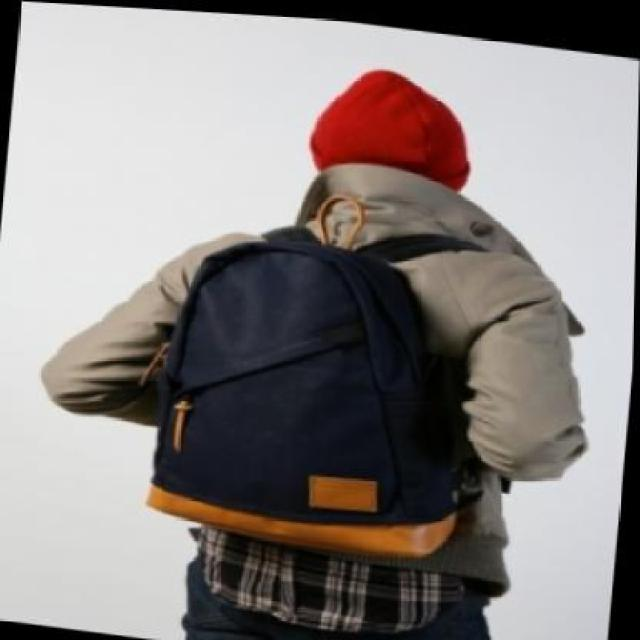hat: (302, 51, 490, 189)
